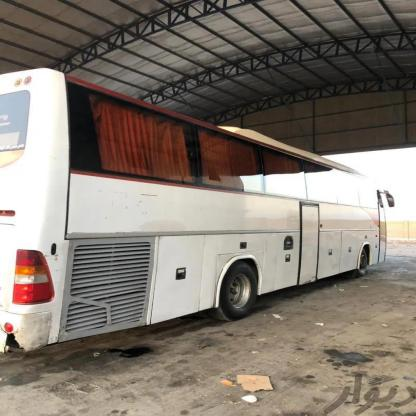Bus: (0, 80, 403, 328)
